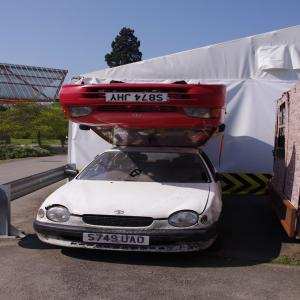Vehicle-registration-plate: (106, 92, 168, 105), (84, 235, 151, 247)
